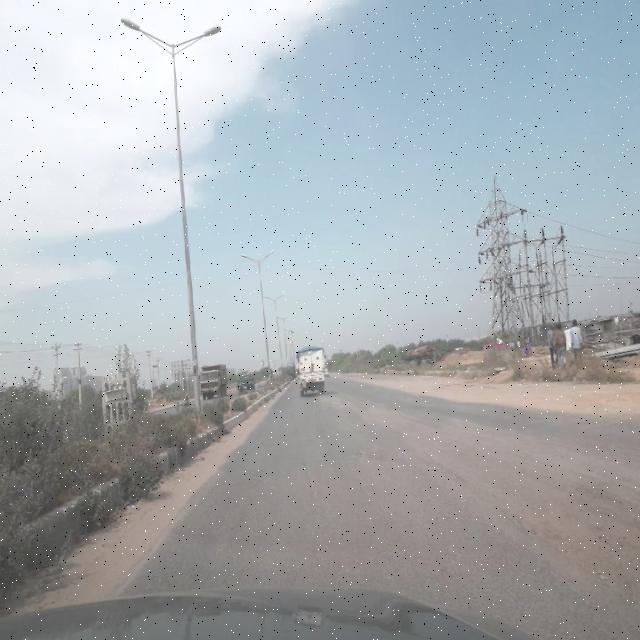D00: (302, 444, 326, 524)
